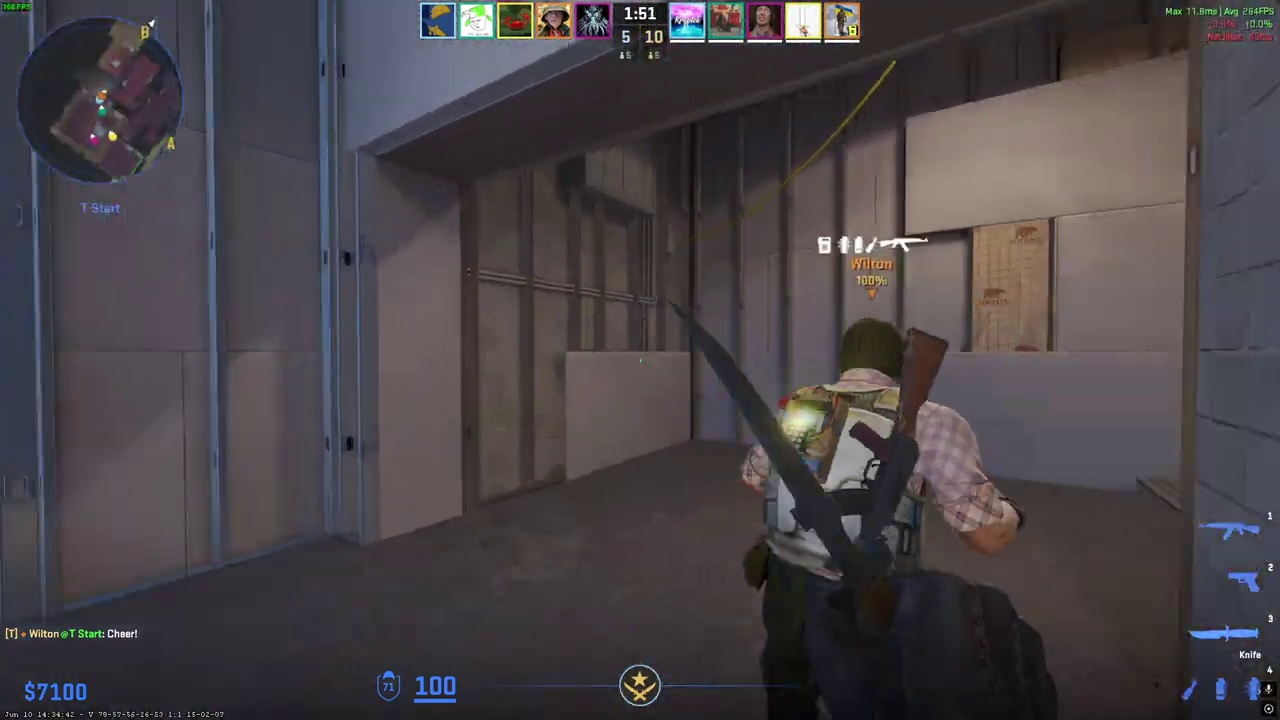Terrorist: (752, 316, 969, 720)
